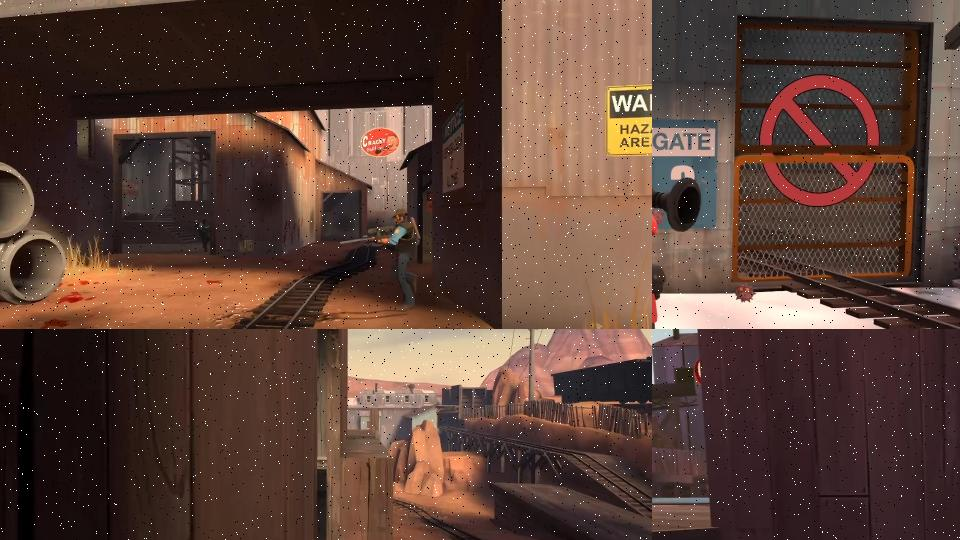Enemy: (337, 209, 422, 312), (652, 155, 702, 329), (193, 218, 211, 254)
